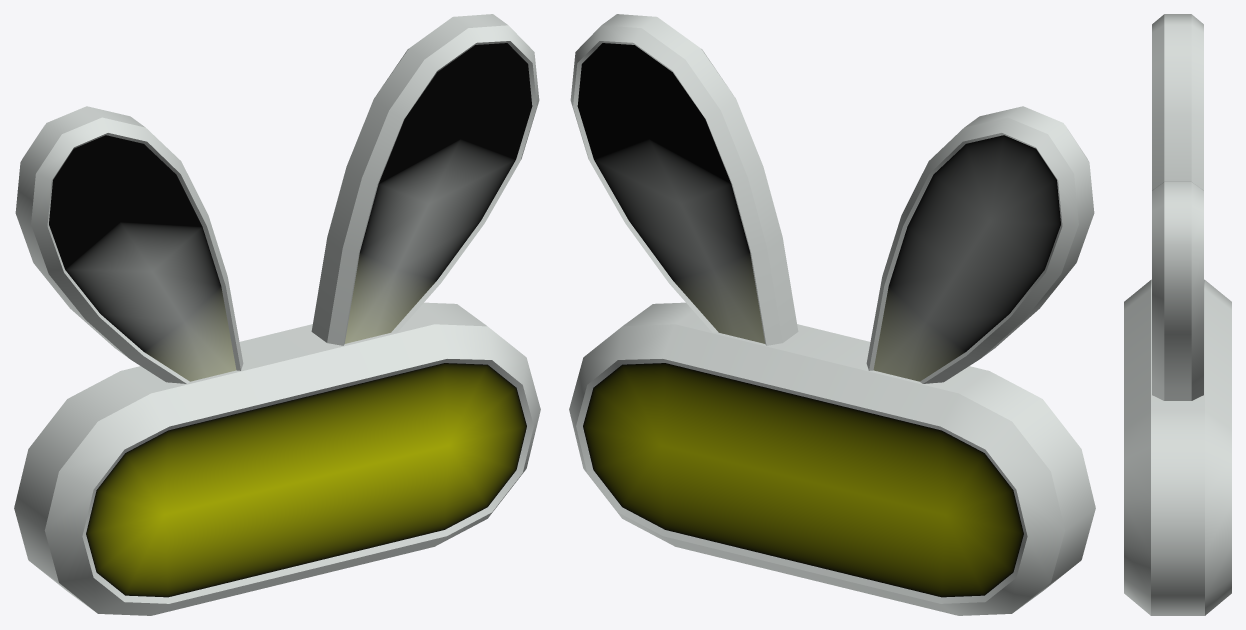
The picture shows the model from 3 angles, left to right: view 1: azimuth 30°, elevation 25°; view 2: azimuth 150°, elevation 25°; view 3: azimuth 270°, elevation 25°; orthographic projection. The views are drawn at different scales.
Parts seen in each view (by area): view 1: G:\FFXIV-MapTools\exports\u5f1\bg\ex4\04_uvs_u5\fld\u5f1\bgp (×2); view 2: G:\FFXIV-MapTools\exports\u5f1\bg\ex4\04_uvs_u5\fld\u5f1\bgp (×2); view 3: G:\FFXIV-MapTools\exports\u5f1\bg\ex4\04_uvs_u5\fld\u5f1\bgp.
Part boxes in pixels (x1,y1,x2,y2): G:\FFXIV-MapTools\exports\u5f1\bg\ex4\04_uvs_u5\fld\u5f1\bgp (×2): [14, 14, 540, 615]; G:\FFXIV-MapTools\exports\u5f1\bg\ex4\04_uvs_u5\fld\u5f1\bgp (×2): [569, 14, 1095, 615]; G:\FFXIV-MapTools\exports\u5f1\bg\ex4\04_uvs_u5\fld\u5f1\bgp: [1124, 14, 1231, 615].
Size of the model in its own units: 3.59 by 3.39 by 0.75.
